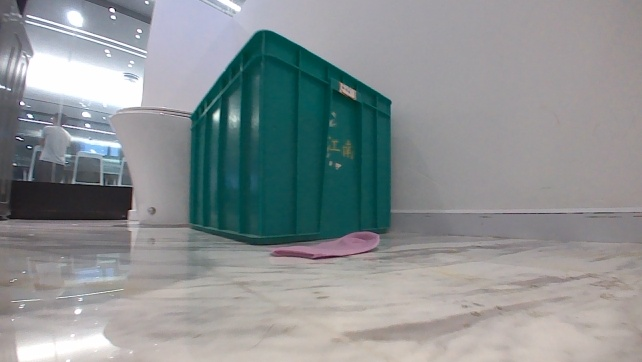socks: (270, 229, 383, 262)
toilet: (106, 103, 195, 230)
